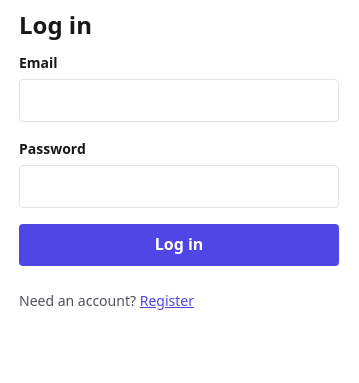
Scenario: Login › shows a 401 as a form-level error, not against a field
This screenshot has width=359, height=383.
Type "andres@example.com" into the field labelled "Email" at [179, 101], box [19,79,339,122]
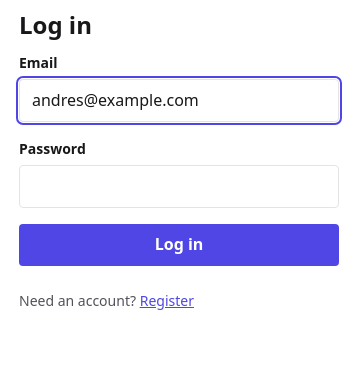
Type "password123" into the password field labelled "Password" at [179, 187], box [19,165,339,208]
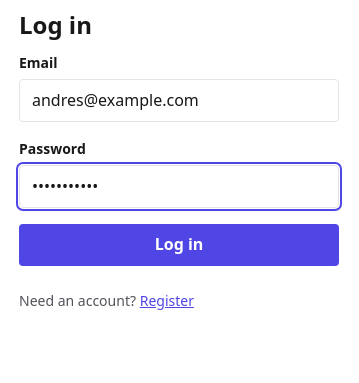
Click the button "Log in" at [179, 245], box [19,224,339,266]
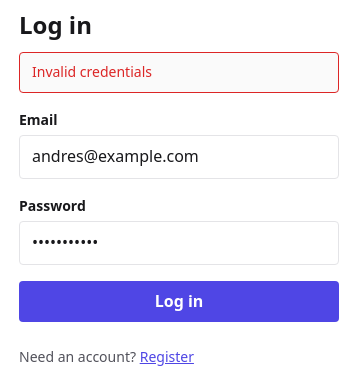
Check: the message reads "Invalid credentials", box [32,62,152,81]
